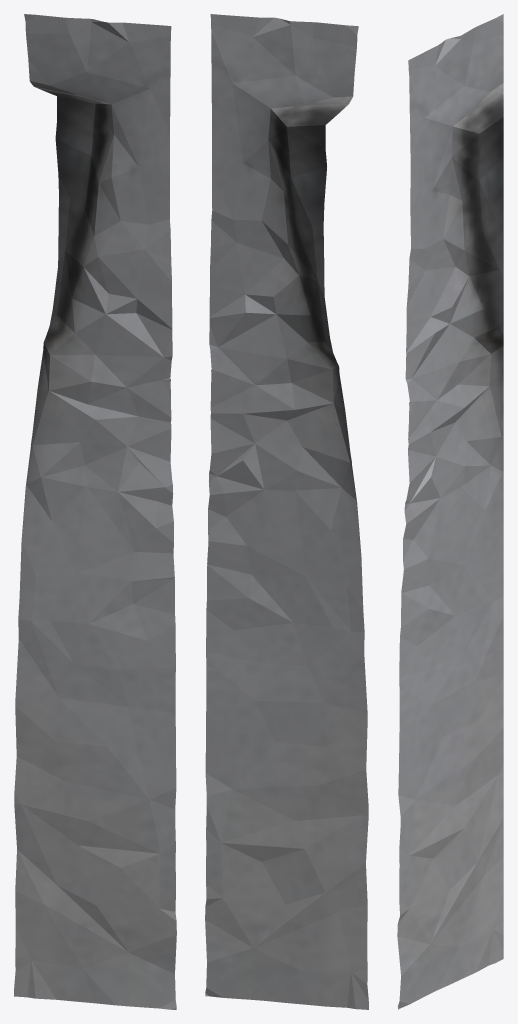
3 views of the same model, side by side, from view 1: azimuth 30°, elevation 25°; view 2: azimuth 210°, elevation 25°; view 3: azimuth 270°, elevation 25° (orthographic). The views are drawn at different scales.
Bounding box in the file's own units: 0.0965 × 0.8374 × 0.0849.
Materials: 1 (1 with a texture image).
